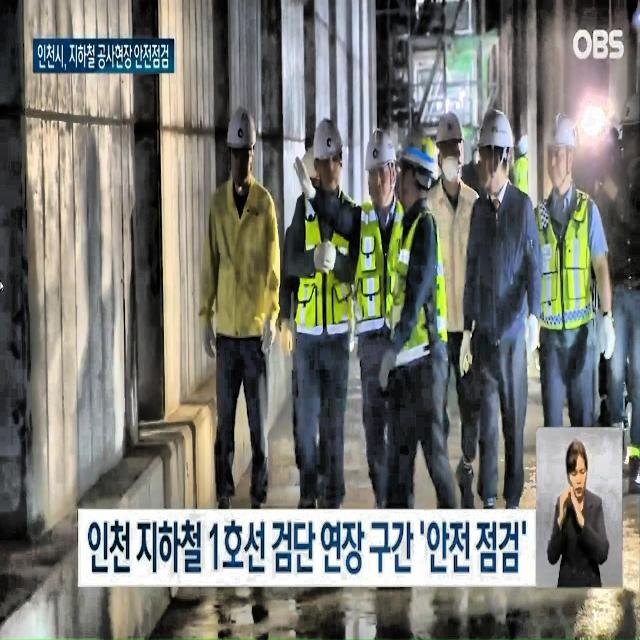safety_helmet: (398, 126, 439, 180), (479, 106, 515, 152), (224, 106, 260, 152), (312, 118, 346, 164), (542, 111, 576, 154), (366, 128, 396, 172), (435, 112, 465, 150), (616, 92, 640, 130), (518, 135, 529, 154)
safety_jacket: (388, 214, 450, 364), (294, 185, 354, 338), (535, 188, 599, 330), (359, 200, 403, 330)
